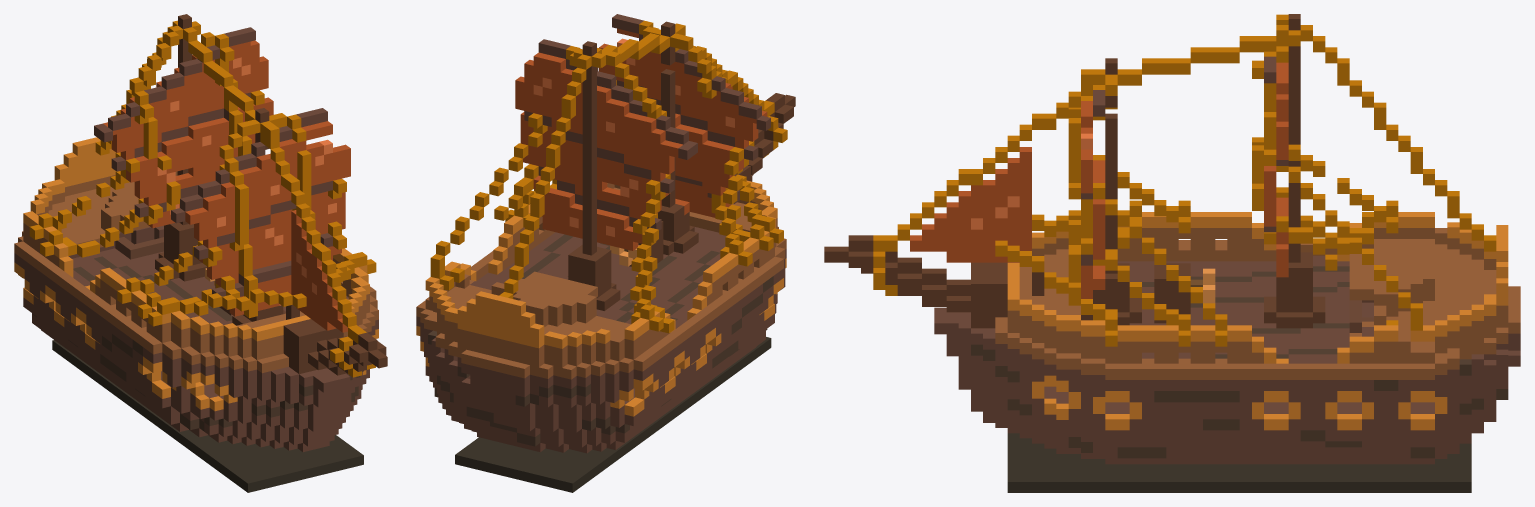
Rendered from Boat.fbx.
3 renders of one model, left to right at view 1: azimuth 30°, elevation 25°; view 2: azimuth 150°, elevation 25°; view 3: azimuth 270°, elevation 25°, orthographic. The views are drawn at different scales.
Parts seen in each view (by area): view 1: _other_boat:_other_boat; view 2: _other_boat:_other_boat; view 3: _other_boat:_other_boat.
Part boxes in pixels (x1,y1,x2,y2): _other_boat:_other_boat: (14,14,387,492); _other_boat:_other_boat: (416,14,795,492); _other_boat:_other_boat: (824,14,1520,492).
Bounding box in the file's own units: 25 × 40 × 57.
